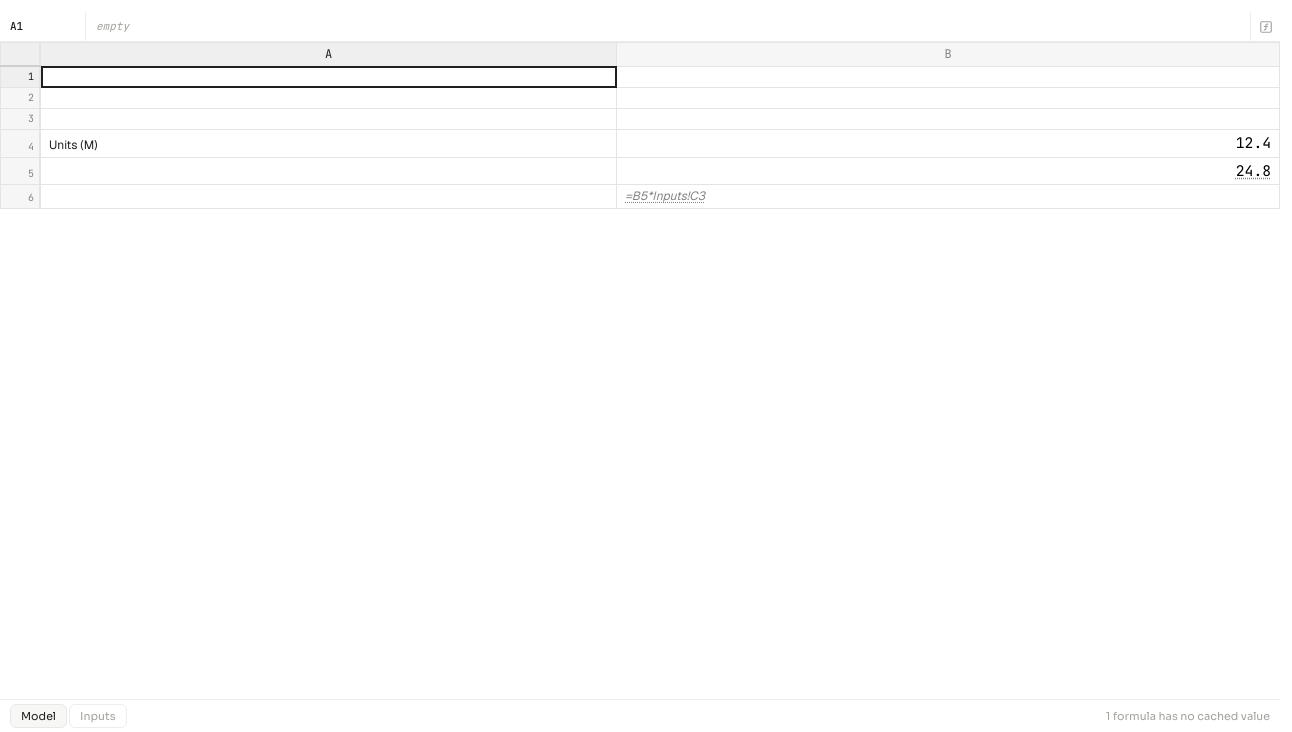
Test: ExcelViewer › swaps values for formulas on the toggle
Expected: the text "Units (M)" is shown, x1=40 y1=130 x2=617 y2=157
Expected: the cell "24.8" is shown, x1=617 y1=157 x2=1280 y2=185
Click the button titled "Show formulas": (1265, 26) x1=1250 y1=12 x2=1280 y2=41
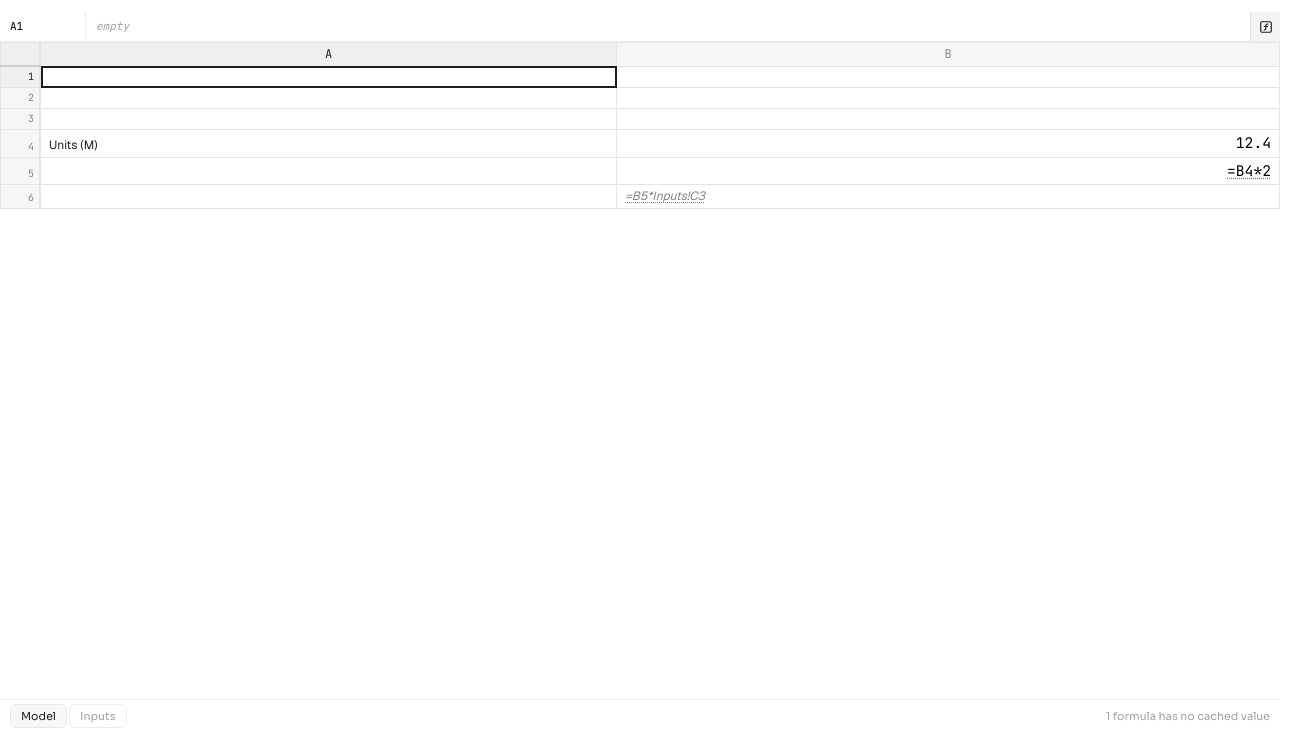
Expected: the cell "12.4" is shown, x1=617 y1=130 x2=1280 y2=157
Expected: the cell "=B4*2" is shown, x1=617 y1=157 x2=1280 y2=185
